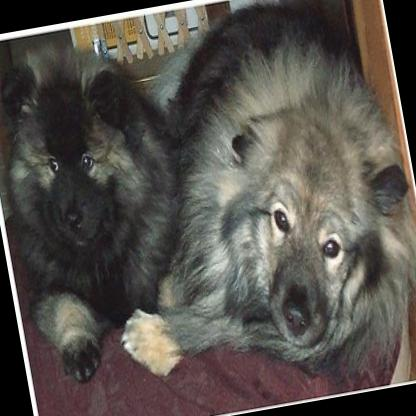keeshond: (64, 0, 416, 415), (0, 30, 209, 392)
